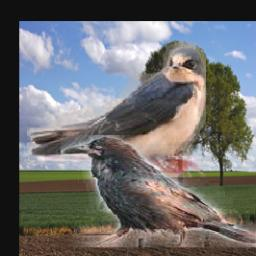Crow: (61, 136, 256, 248)
Swallow: (27, 39, 206, 177)
